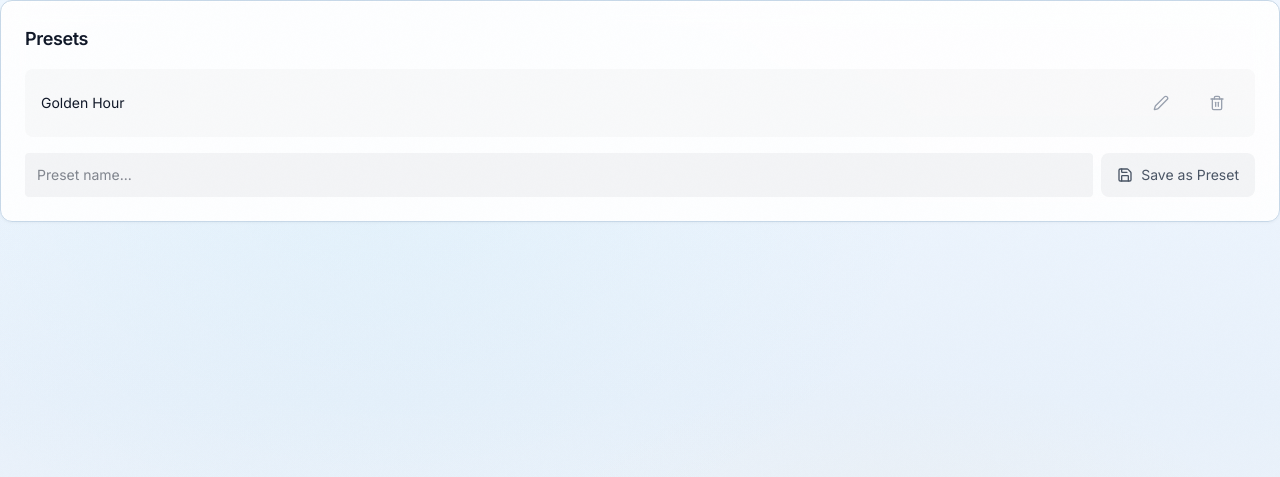
Test case: AnimationPresets rename focus (JTN-389) › focuses the rename input when entering edit mode
Expected: the button "Golden Hour" is shown, [41,93,1127,113]
Click the button named "Rename": [1161, 103] box [1139,81,1183,125]
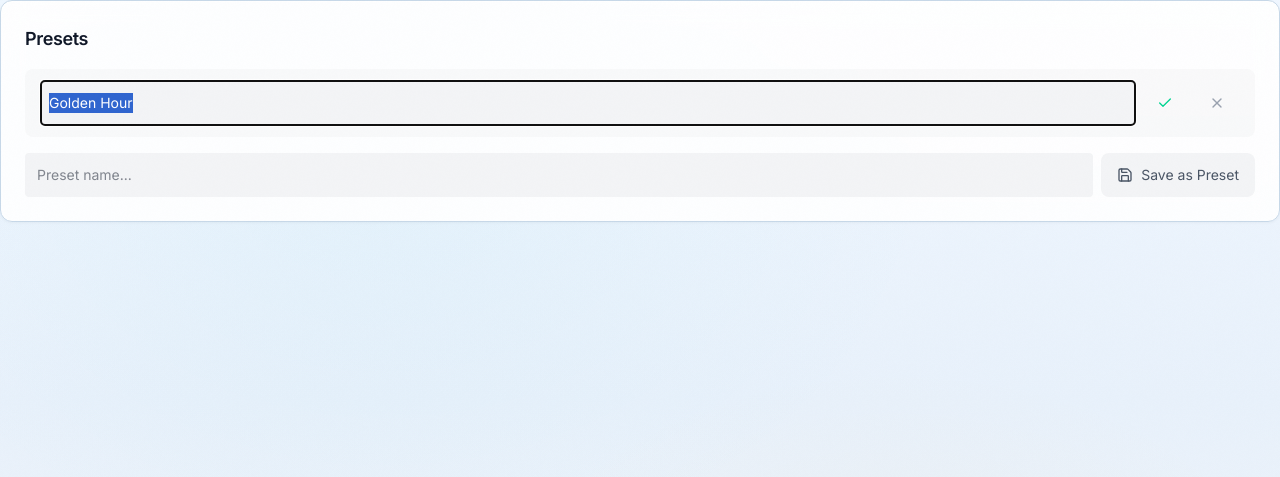
Result: the field named "rename preset" is shown at [41,81,1135,125]
